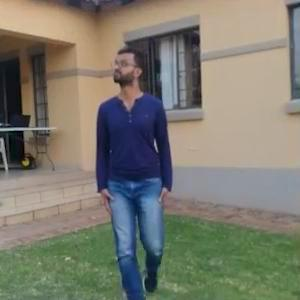follow: (96, 42, 171, 256)
